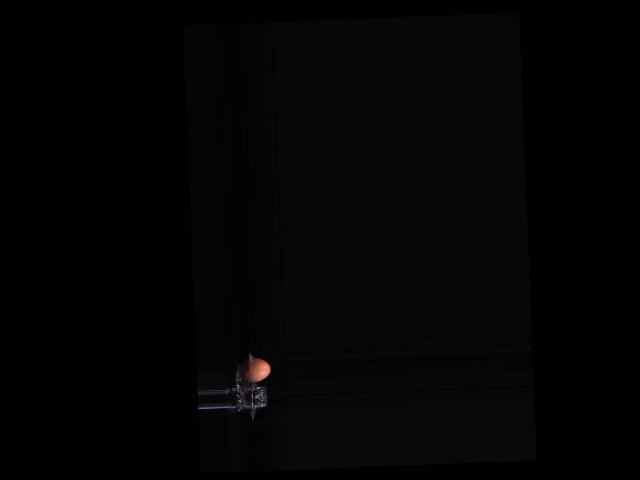egg: (238, 356, 270, 382)
